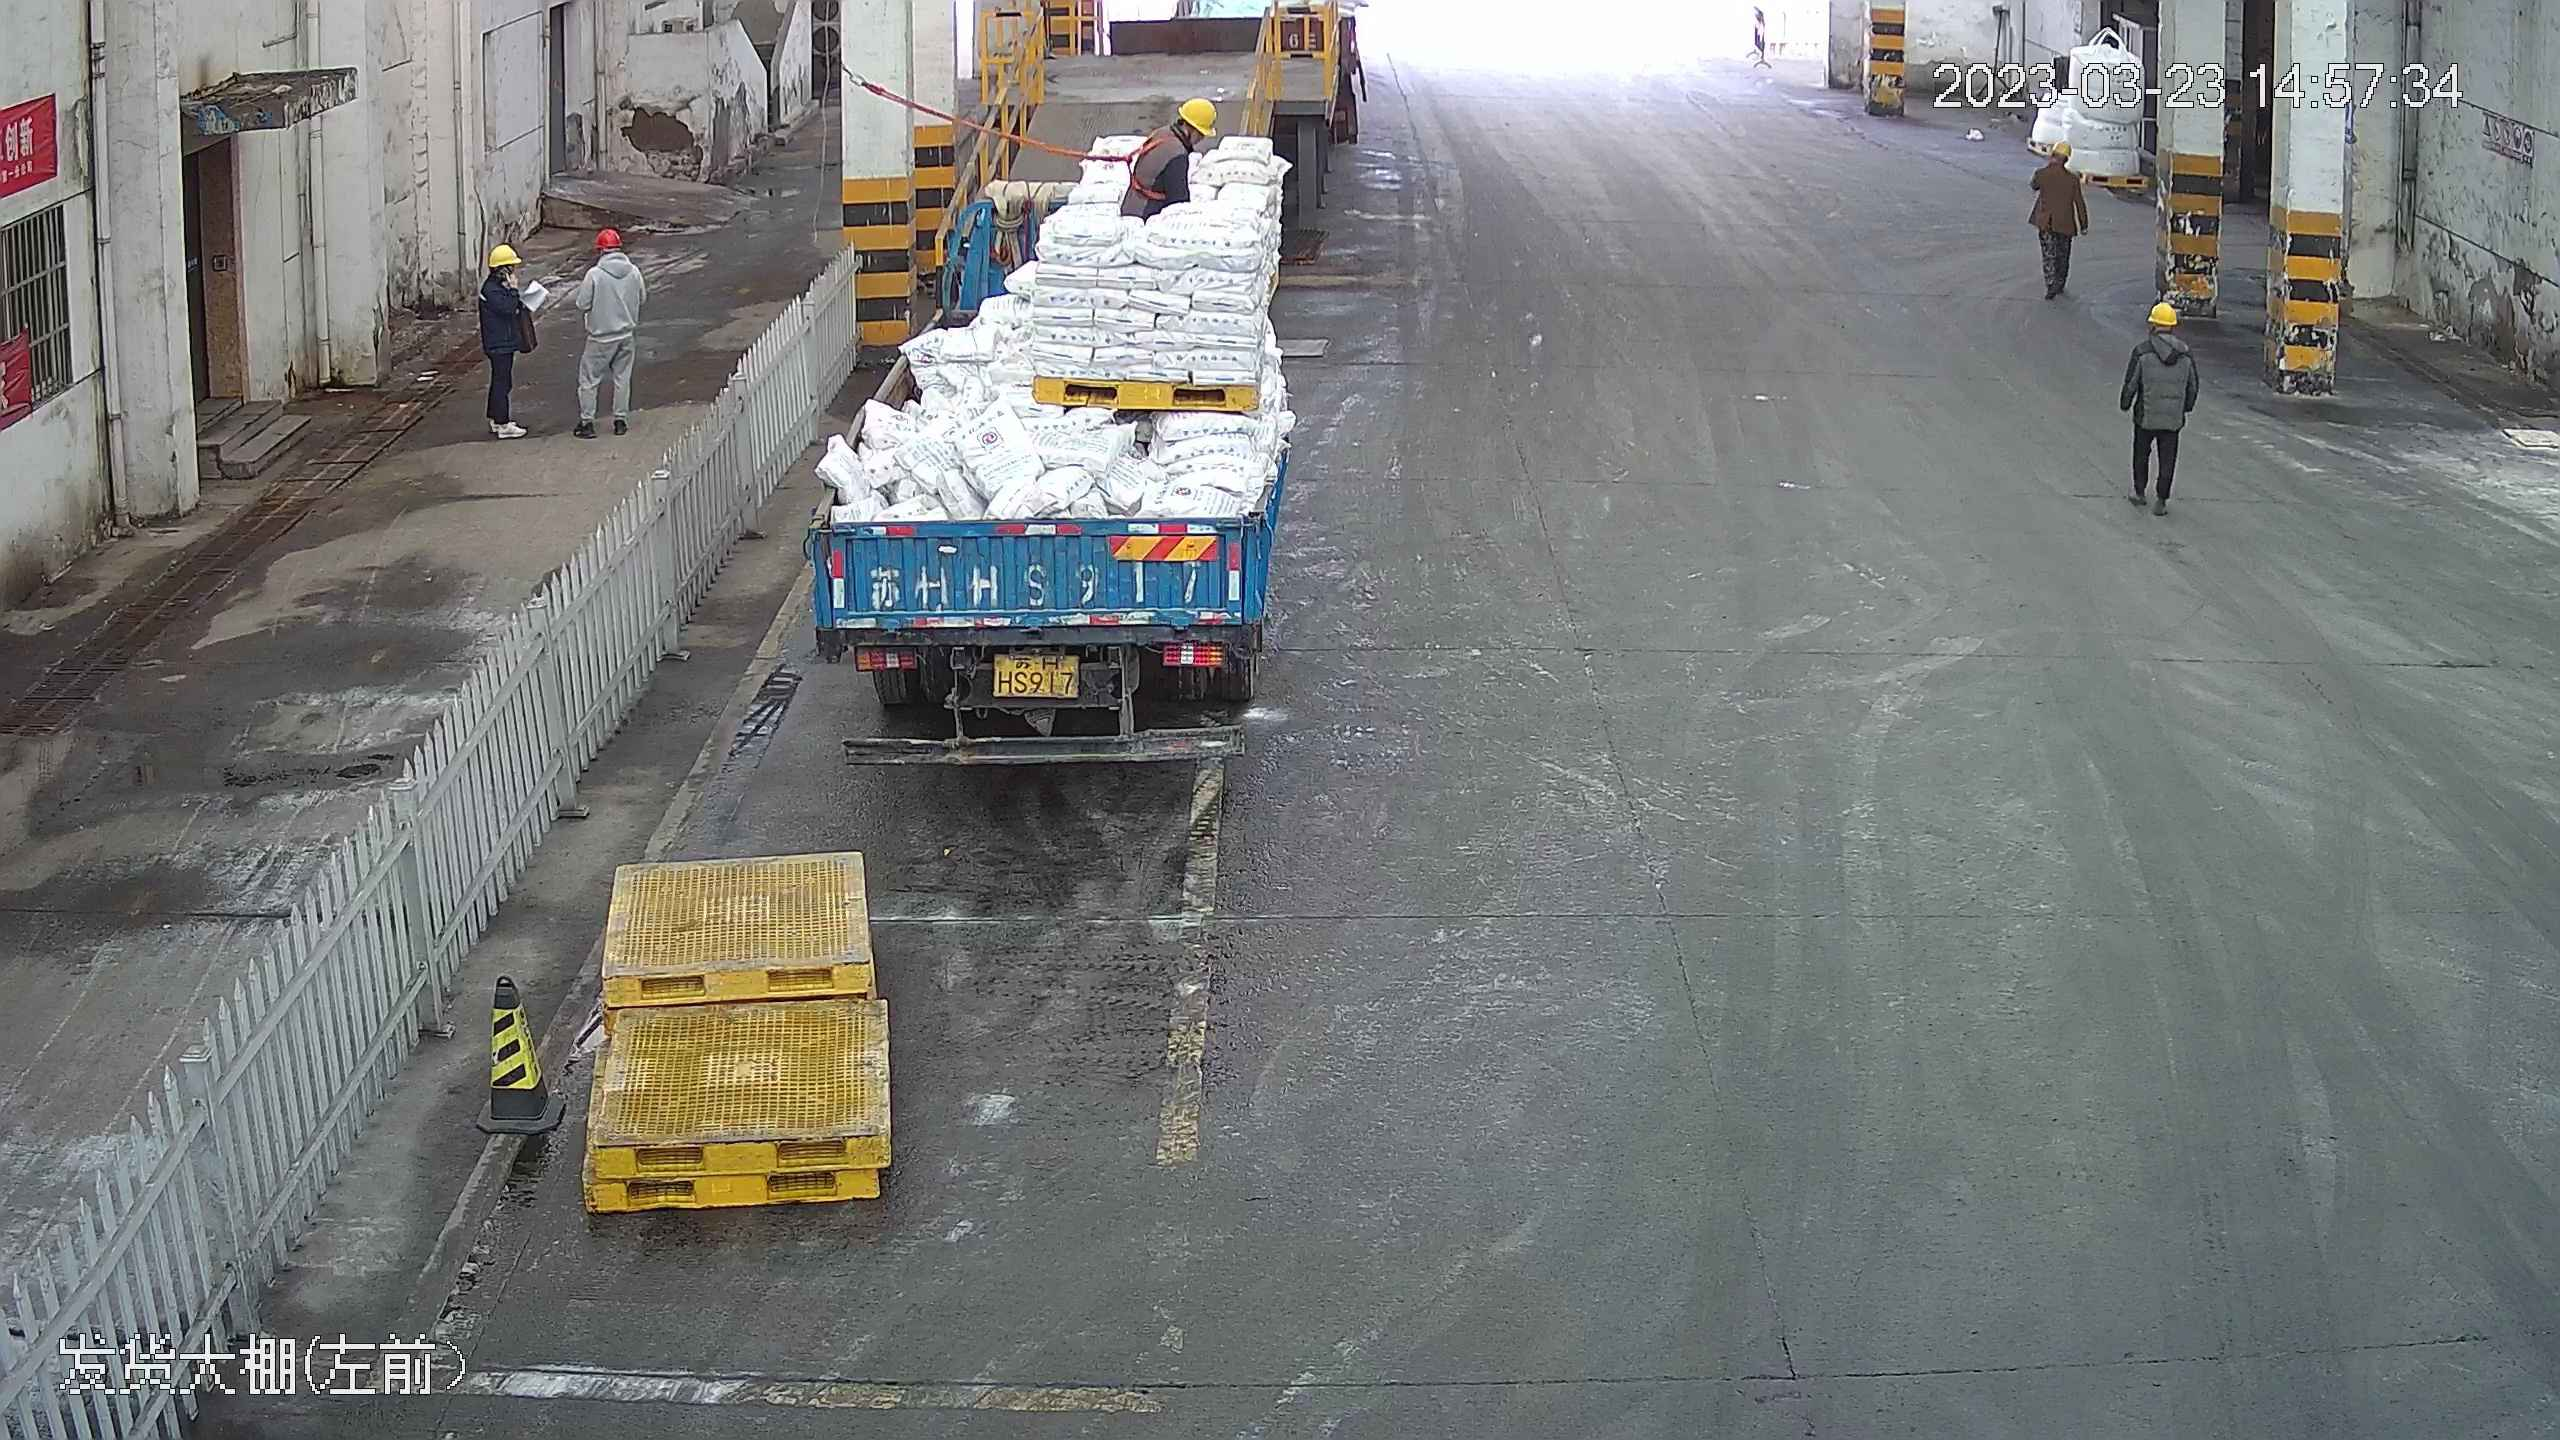belt: (1119, 129, 1177, 199)
head: (1130, 96, 1219, 177), (2129, 299, 2196, 364), (477, 241, 530, 312), (583, 223, 637, 288), (2036, 136, 2083, 188)
helmet: (476, 241, 528, 308), (1177, 95, 1221, 137), (484, 242, 519, 270), (2147, 299, 2179, 327), (591, 223, 622, 248), (2046, 138, 2074, 159)
people: (2116, 297, 2200, 516), (574, 222, 639, 441), (473, 241, 540, 440), (2027, 137, 2090, 304)
truck: (813, 44, 1287, 763)
